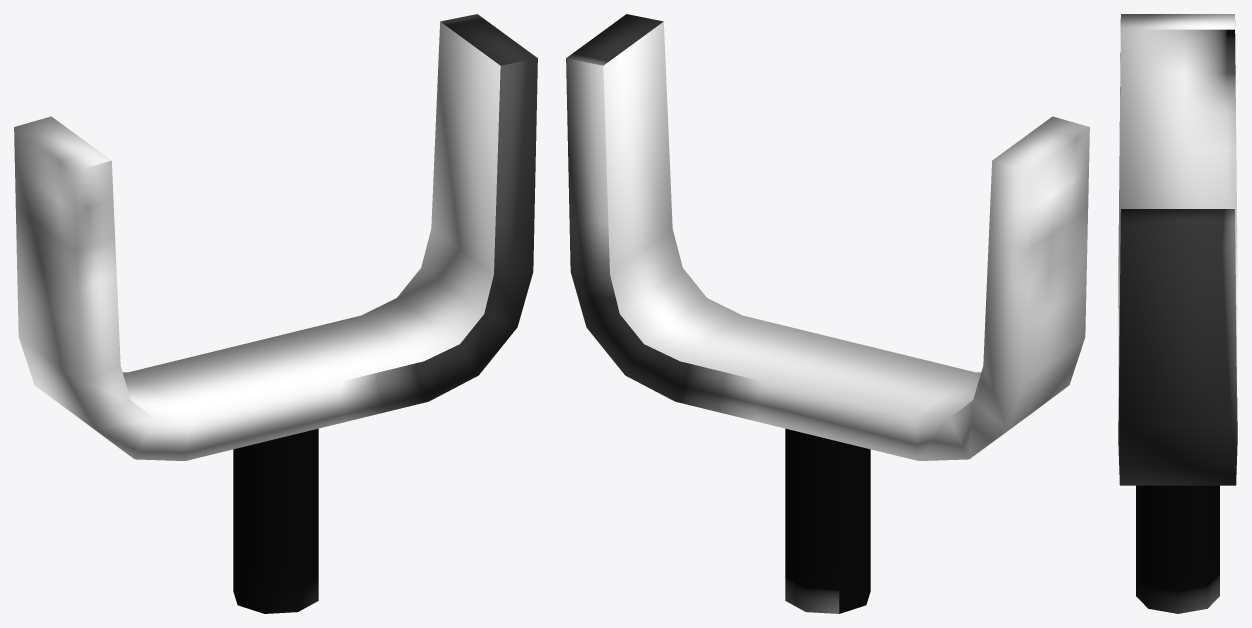
Rendered from Rod Holder.fbx.
The picture shows the model from 3 angles, left to right: view 1: azimuth 30°, elevation 25°; view 2: azimuth 150°, elevation 25°; view 3: azimuth 270°, elevation 25°; orthographic projection. The views are drawn at different scales.
Parts seen in each view (by area): view 1: Rod_Holder; view 2: Rod_Holder; view 3: Rod_Holder.
Part boxes in pixels (x1=…): Rod_Holder: x1=14, y1=14, x2=537, y2=613; Rod_Holder: x1=566, y1=14, x2=1089, y2=613; Rod_Holder: x1=1118, y1=14, x2=1237, y2=613.
Bounding box in the file's own units: 6.71 × 6.99 × 1.58.
